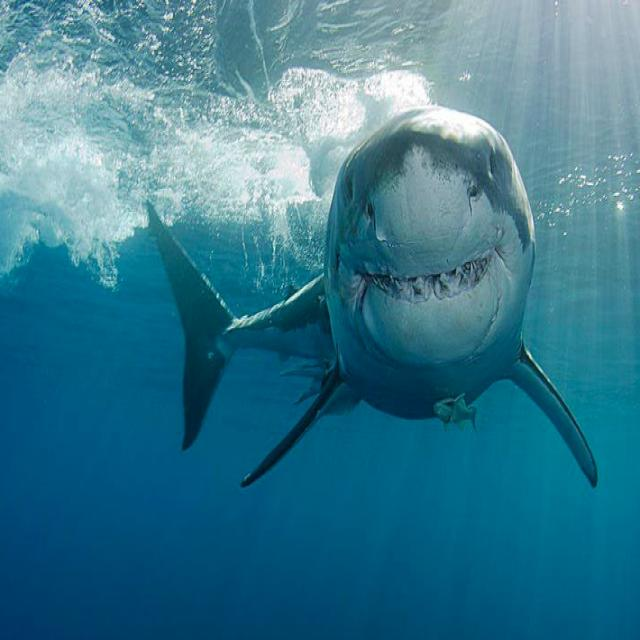shark: (150, 107, 596, 486)
